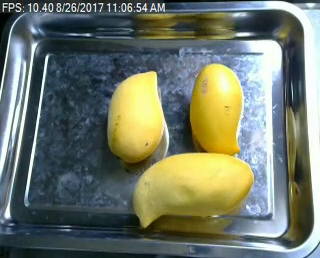Mango: (123, 150, 259, 233), (100, 63, 170, 160), (187, 59, 246, 159)
